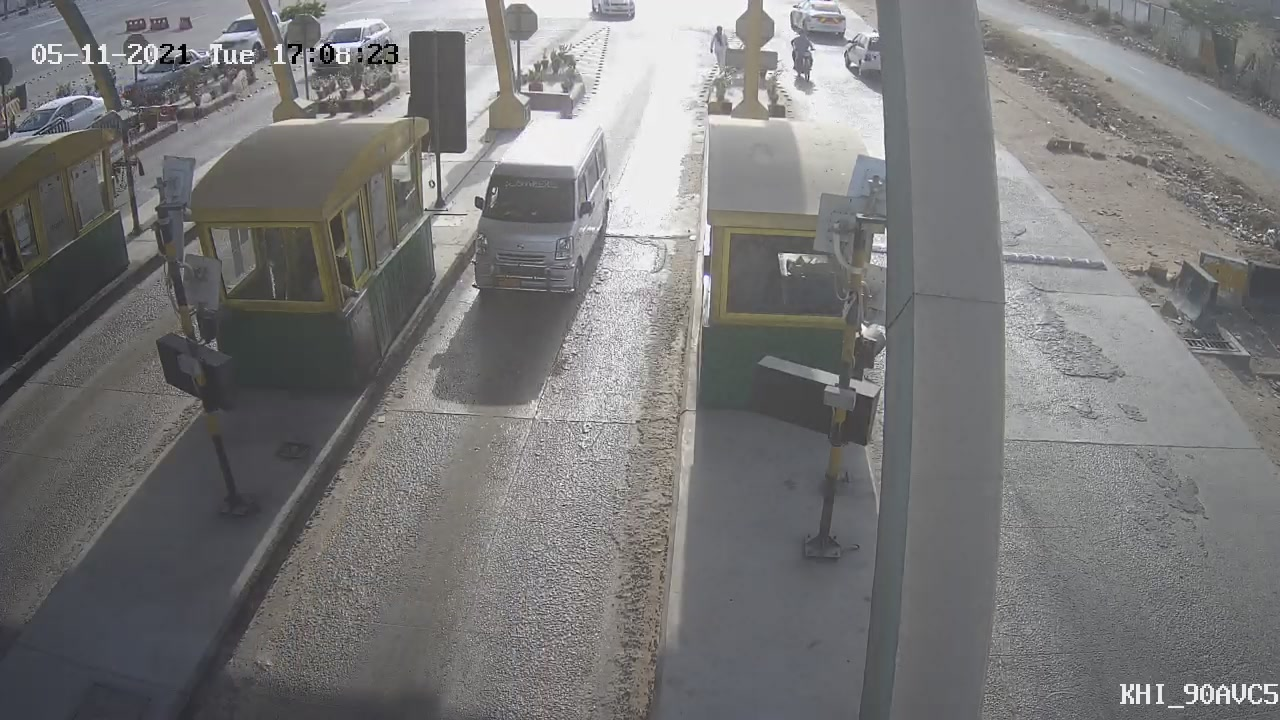F1: (447, 105, 630, 324)
